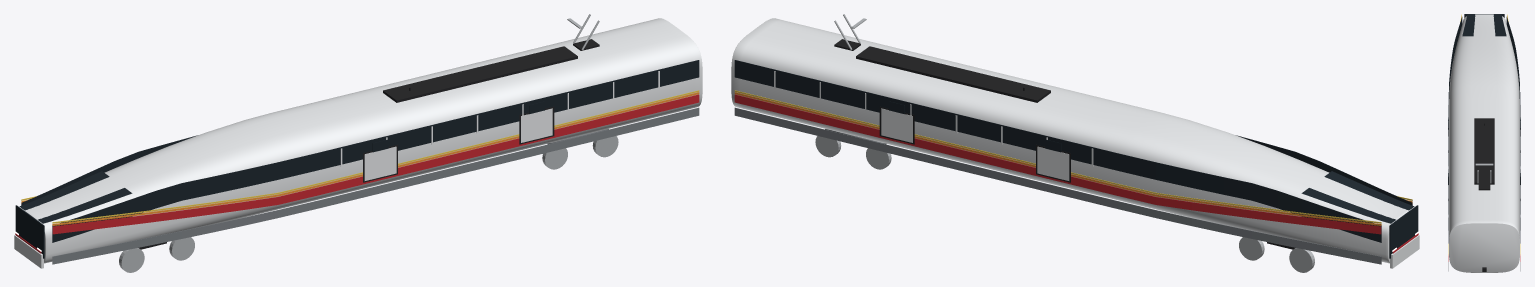
Rendered from cr400af-bs-headcar-v018.glb.
3 renders of one model, left to right at view 1: azimuth 30°, elevation 25°; view 2: azimuth 150°, elevation 25°; view 3: azimuth 270°, elevation 25°, orthographic. The views are drawn at different scales.
Parts seen in each view (by area): view 1: GEO-headcar_body, GEO-window_band_-1, GEO-skirt_-1, GEO-swoosh_red_-1, GEO-roof_fairing, GEO-swoosh_orange_-1, GEO-nose_windshield, GEO-swoosh_gold_-1, GEO-door_-1_-0.6, GEO-door_-1_5.6, GEO-front_glass, GEO-window_band_1 (+5 smaller); view 2: GEO-headcar_body, GEO-window_band_1, GEO-skirt_1, GEO-swoosh_red_1, GEO-roof_fairing, GEO-swoosh_orange_1, GEO-nose_windshield, GEO-swoosh_gold_1, GEO-door_1_-0.6, GEO-door_1_5.6, GEO-front_glass, GEO-window_band_-1 (+5 smaller); view 3: GEO-headcar_body, GEO-roof_fairing, GEO-nose_windshield, GEO-window_band_-1, GEO-window_band_1, GEO-pantograph_base.
Part boxes in pixels (box(x1,y1,x2,y2)): GEO-headcar_body: box(21, 18, 702, 263); GEO-window_band_-1: box(52, 60, 699, 242); GEO-skirt_-1: box(52, 107, 699, 264); GEO-swoosh_red_-1: box(52, 94, 699, 234); GEO-roof_fairing: box(383, 46, 577, 102); GEO-swoosh_orange_-1: box(52, 92, 699, 225); GEO-nose_windshield: box(19, 171, 132, 223); GEO-swoosh_gold_-1: box(52, 90, 699, 223); GEO-door_-1_-0.6: box(364, 146, 396, 180); GEO-door_-1_5.6: box(521, 108, 552, 142); GEO-front_glass: box(15, 205, 44, 258); GEO-window_band_1: box(21, 135, 197, 205); GEO-headcar_body: box(731, 18, 1412, 263); GEO-window_band_1: box(734, 60, 1381, 242); GEO-skirt_1: box(734, 107, 1381, 264); GEO-swoosh_red_1: box(734, 94, 1381, 234); GEO-roof_fairing: box(856, 46, 1050, 102); GEO-swoosh_orange_1: box(734, 92, 1381, 225); GEO-nose_windshield: box(1301, 171, 1414, 223); GEO-swoosh_gold_1: box(734, 90, 1381, 223); GEO-door_1_-0.6: box(1037, 146, 1069, 180); GEO-door_1_5.6: box(881, 108, 912, 142); GEO-front_glass: box(1389, 205, 1418, 258); GEO-window_band_-1: box(1236, 135, 1412, 205); GEO-headcar_body: box(1449, 14, 1519, 272); GEO-roof_fairing: box(1474, 118, 1494, 184); GEO-nose_windshield: box(1462, 14, 1506, 36); GEO-window_band_-1: box(1448, 17, 1462, 243); GEO-window_band_1: box(1506, 17, 1520, 243); GEO-pantograph_base: box(1478, 182, 1490, 190).
Size of the model in its own units: 25.95 by 4.84 by 3.44.
